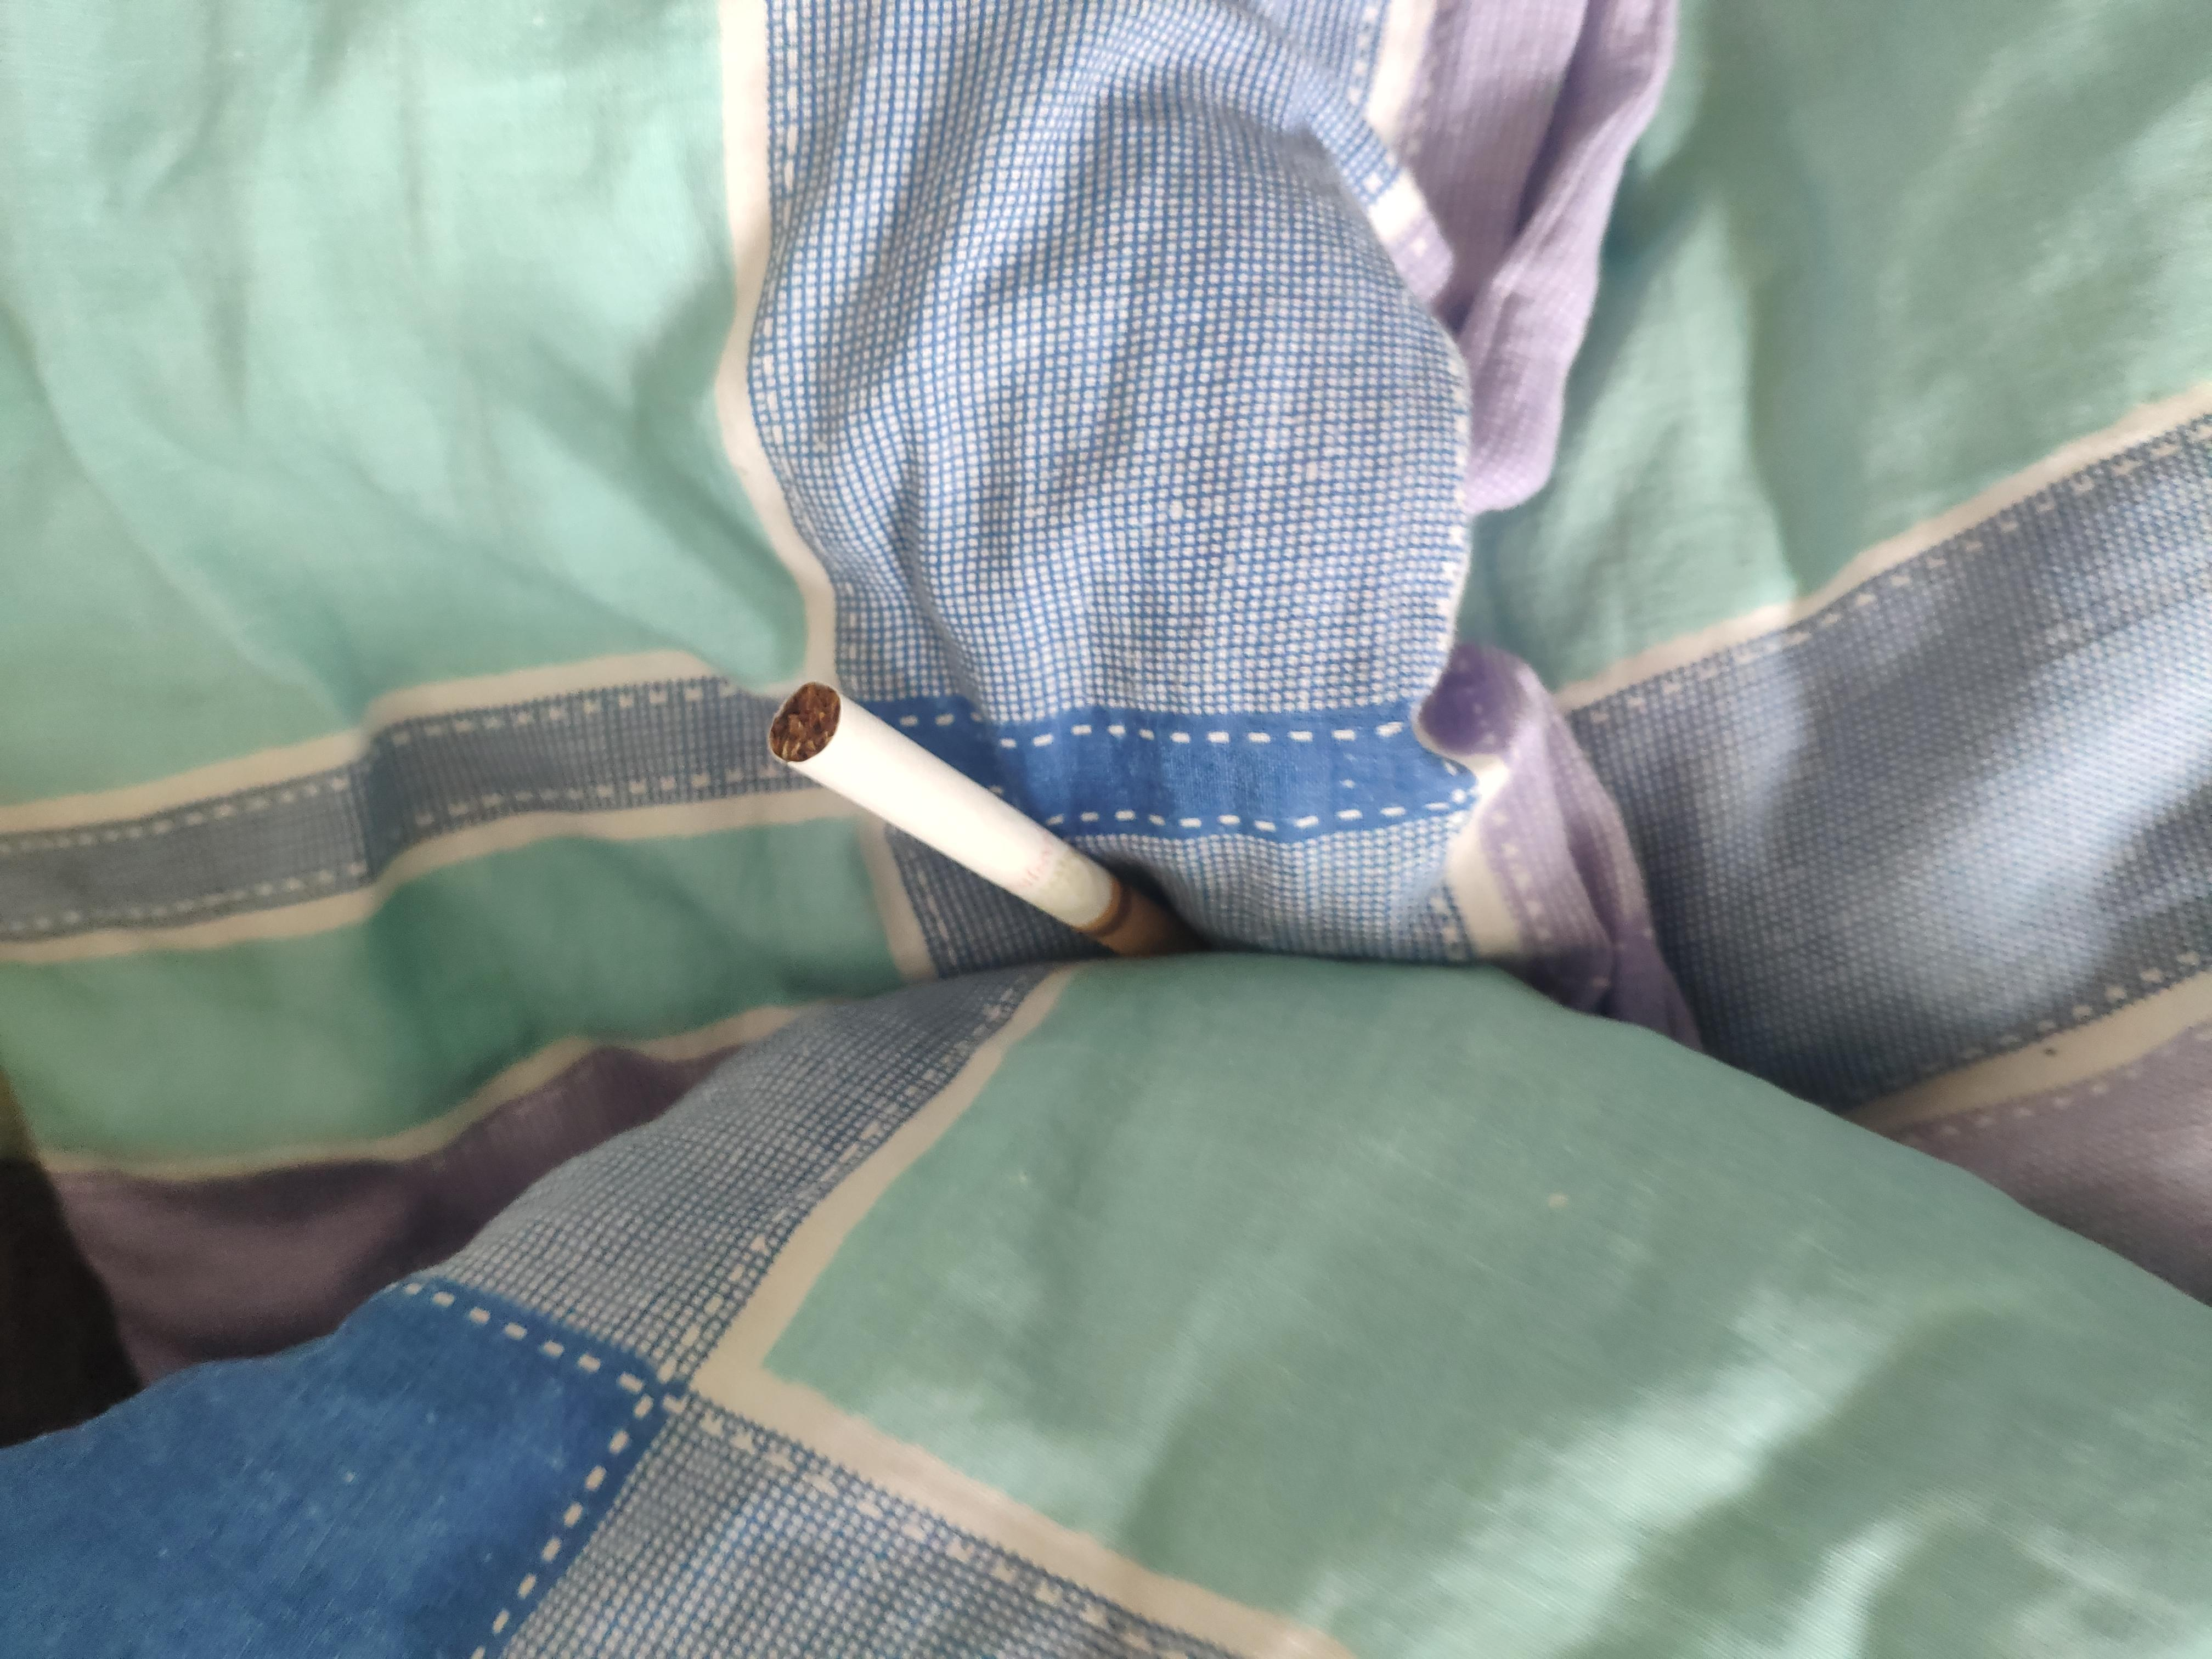smoke: (1007, 694, 1454, 979)
